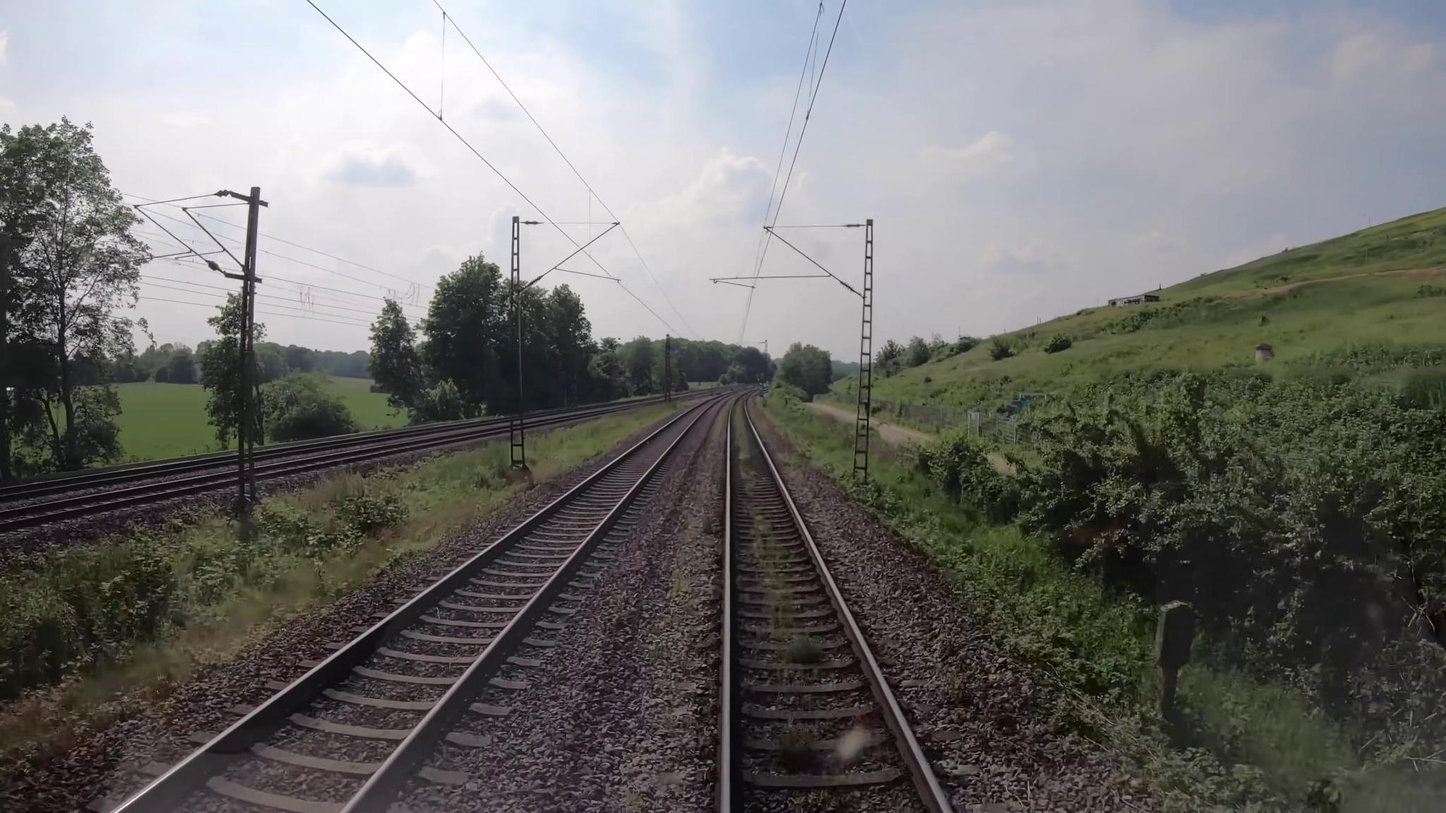Plant: (752, 515, 840, 663), (758, 406, 811, 507)
